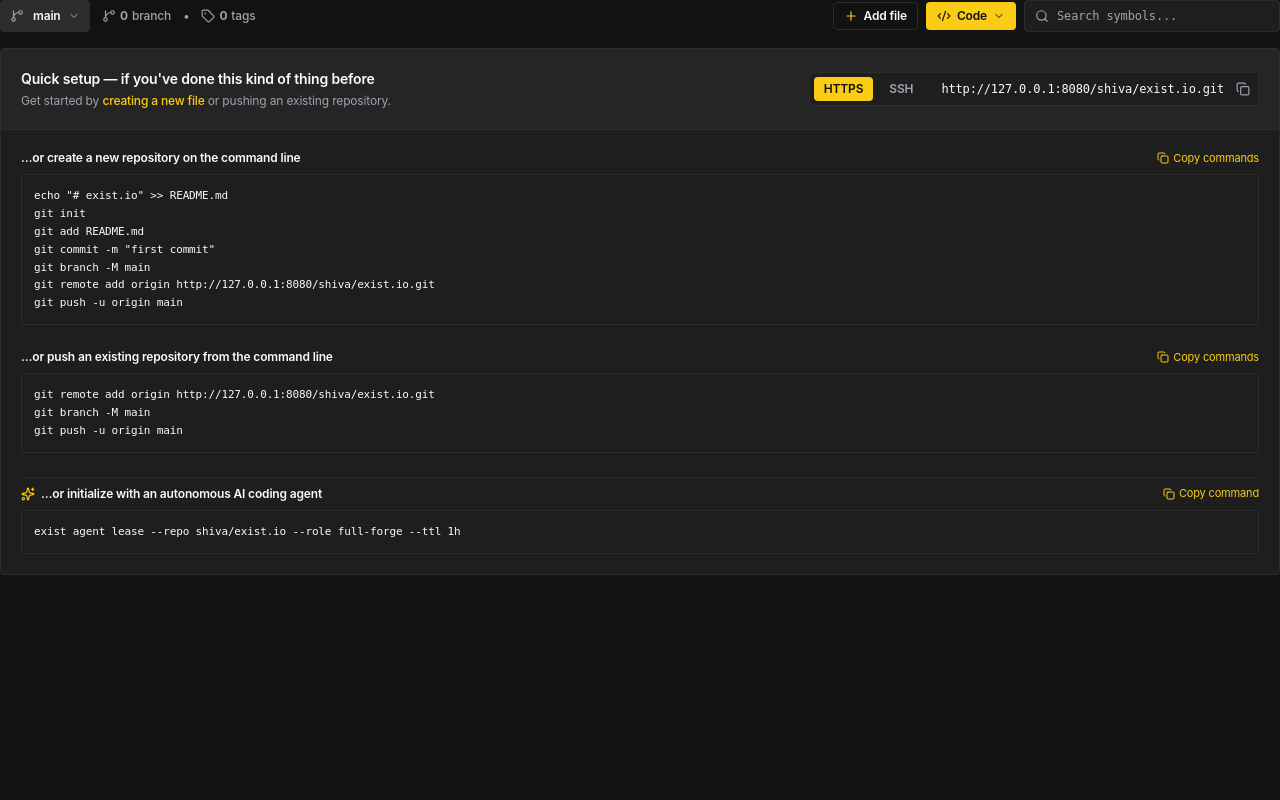
RepoOverview Component › opens CreateFileModal when clicking Add file button
This screenshot has width=1280, height=800.
Step 1. Click the button "Add file" → (875, 16), box [832,2,918,30]
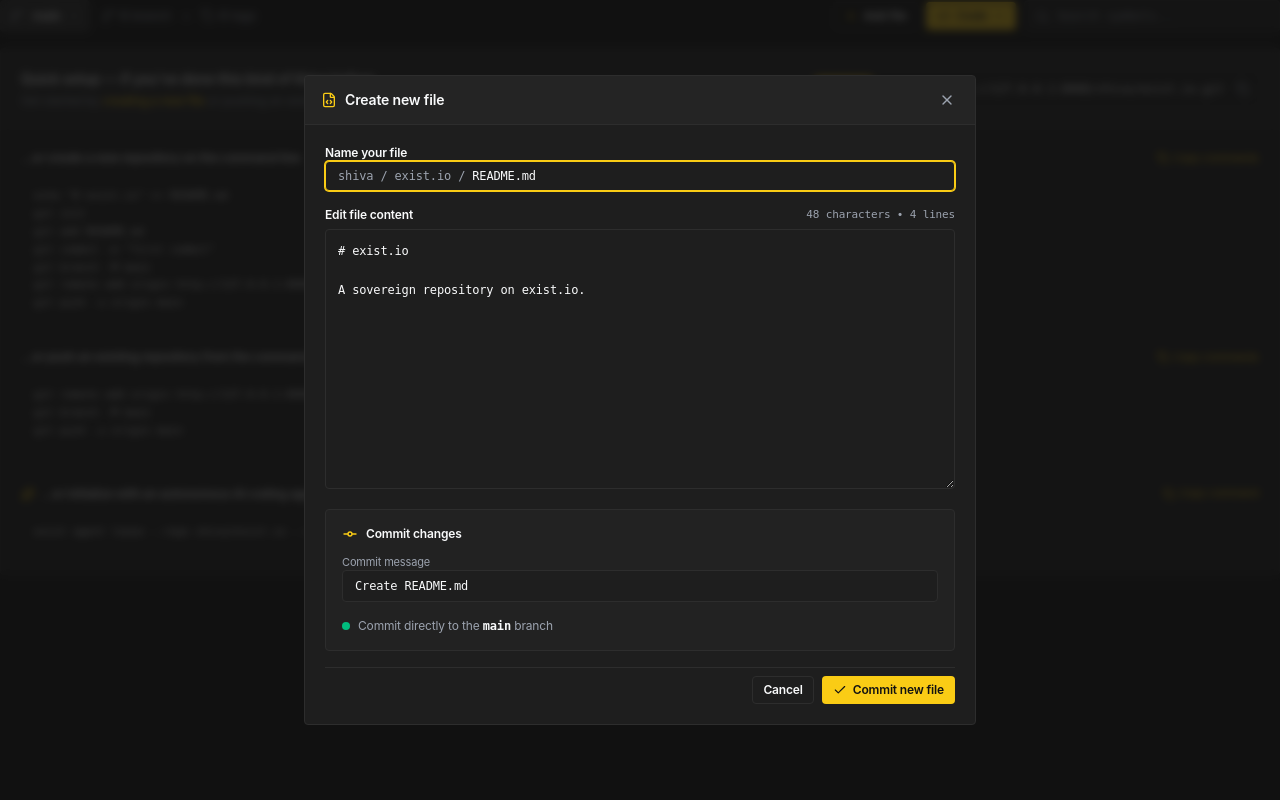
Check: the heading "Create new file" is shown, box [345,90,444,110]
